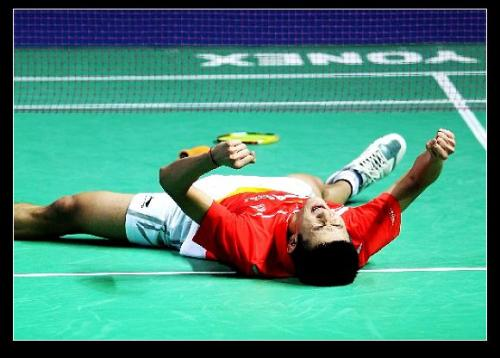fall: (15, 113, 468, 284)
